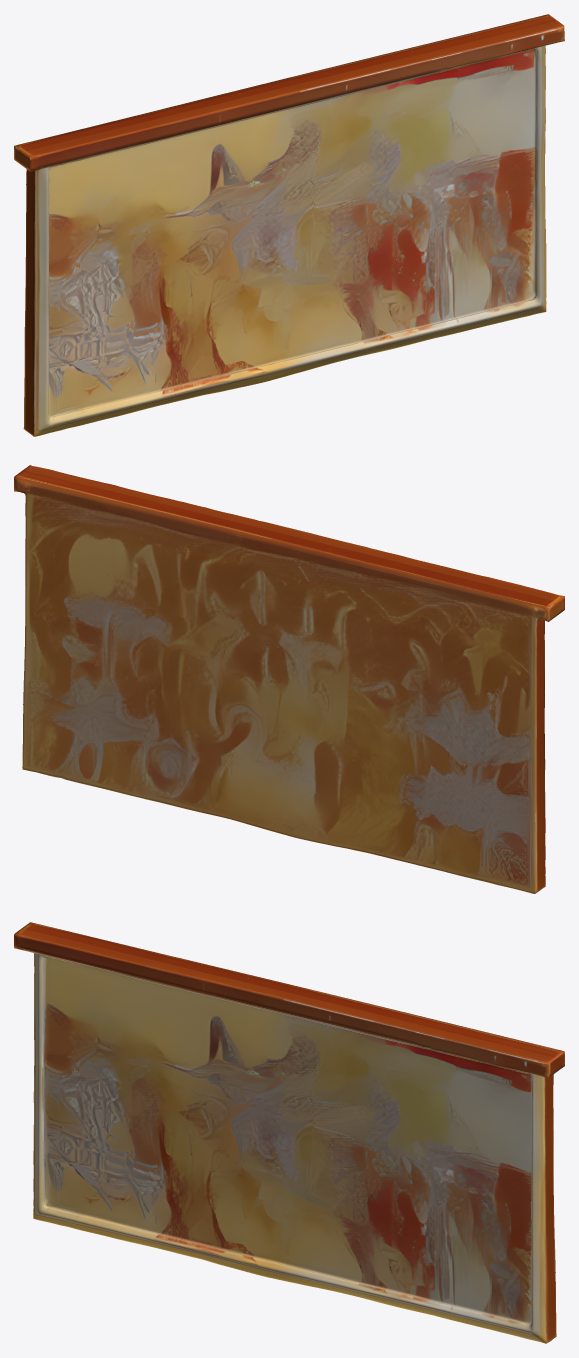
File: 019dacf0-d129-7193-9575-11394d30c450.glb
3 renders of one model, top to bottom at view 1: azimuth 30°, elevation 25°; view 2: azimuth 150°, elevation 25°; view 3: azimuth 330°, elevation 25°, orthographic.
Parts seen in each view (by area): view 1: model; view 2: model; view 3: model.
Boxes of the visible parts, left/top/right/bottom form: model: left=14, top=14, right=564, bottom=436; model: left=14, top=465, right=564, bottom=893; model: left=14, top=922, right=564, bottom=1343.
Bounding box in the file's own units: 1.9 × 0.9895 × 0.1136.
Materials: 1 (1 with a texture image).
